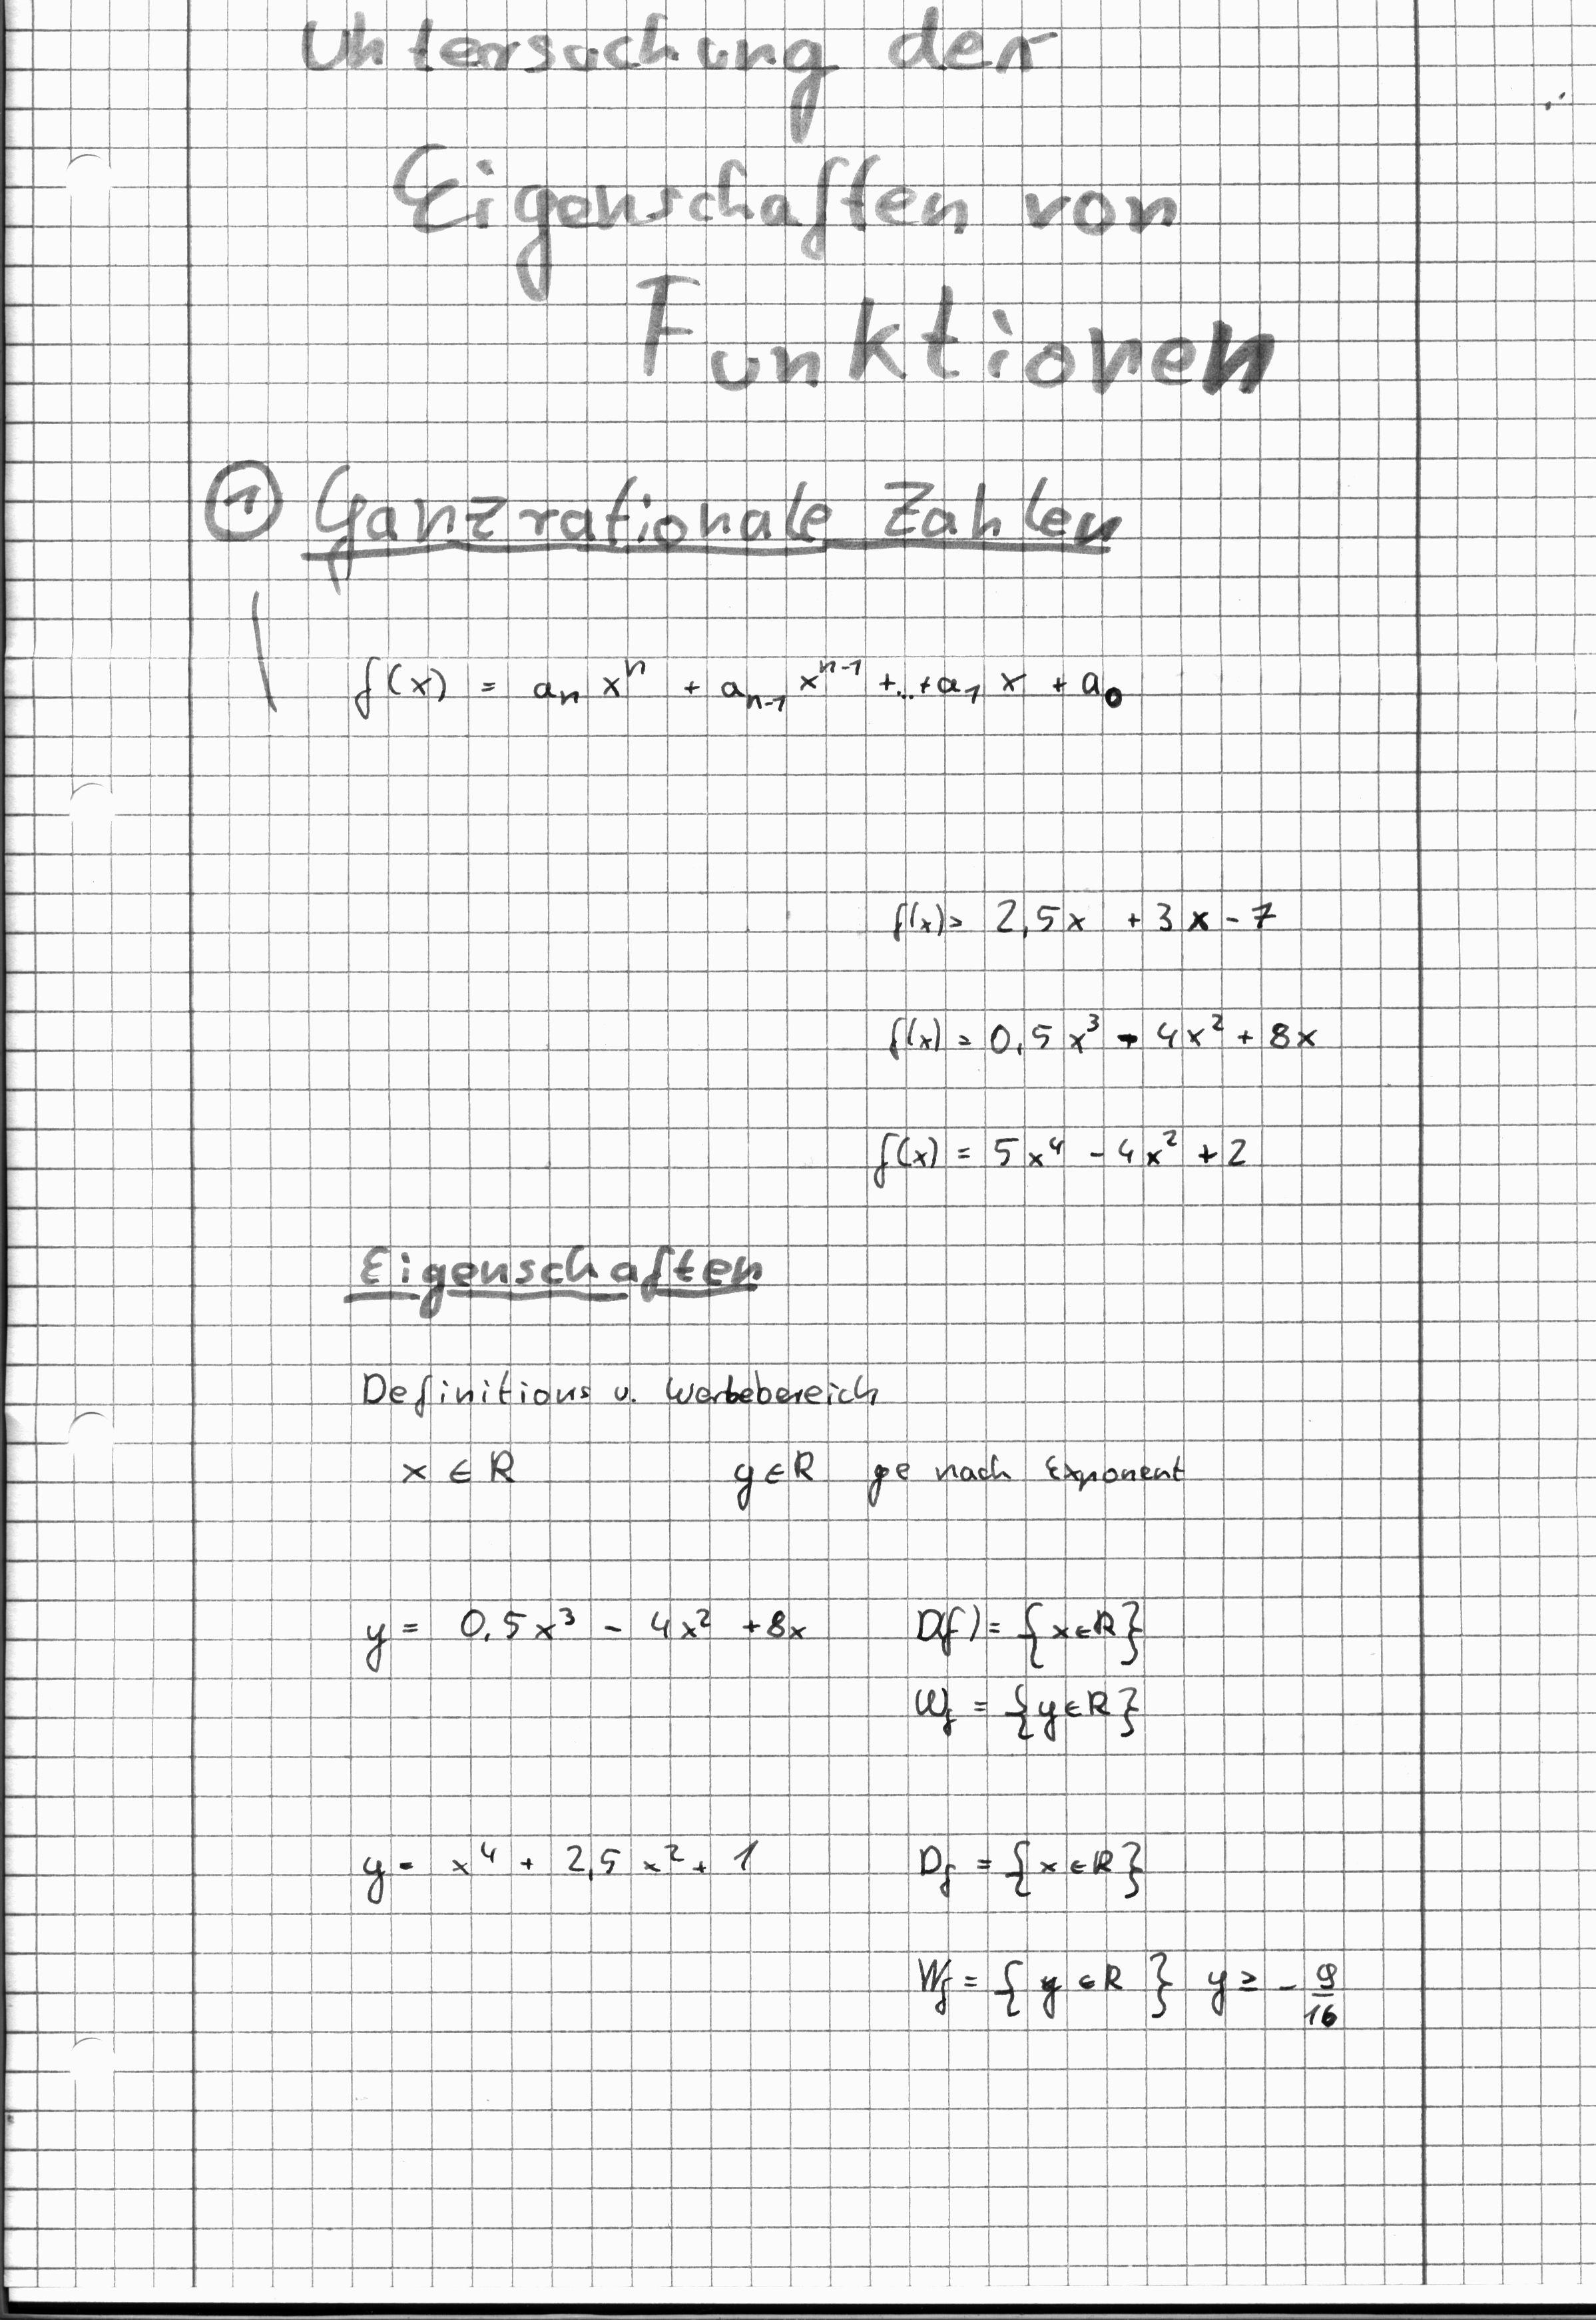word: (337, 627, 1142, 736), (352, 1569, 816, 1687), (345, 1810, 772, 1929), (910, 1938, 1367, 2046), (866, 856, 1302, 970), (865, 986, 1337, 1090), (898, 1588, 1175, 1758), (345, 1349, 895, 1433), (710, 1438, 1200, 1530), (859, 1105, 1264, 1209), (900, 1822, 1177, 1922), (378, 1424, 531, 1506)
